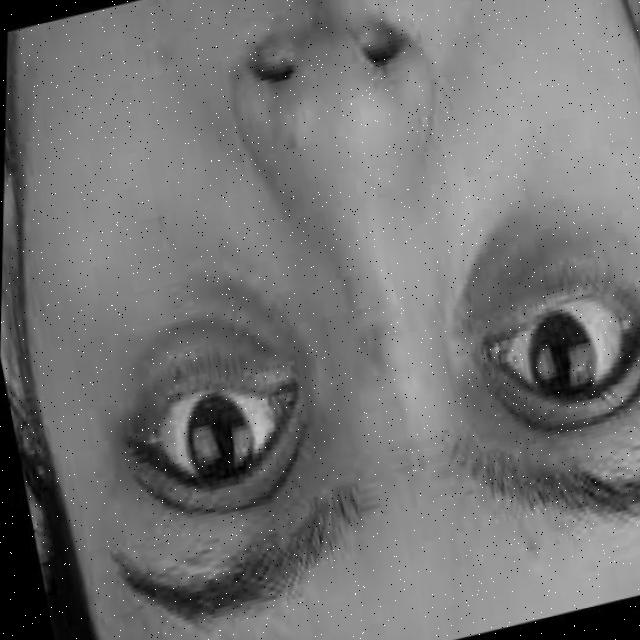puffy_eyes: (465, 204, 640, 340), (135, 285, 309, 412), (142, 318, 260, 379)
